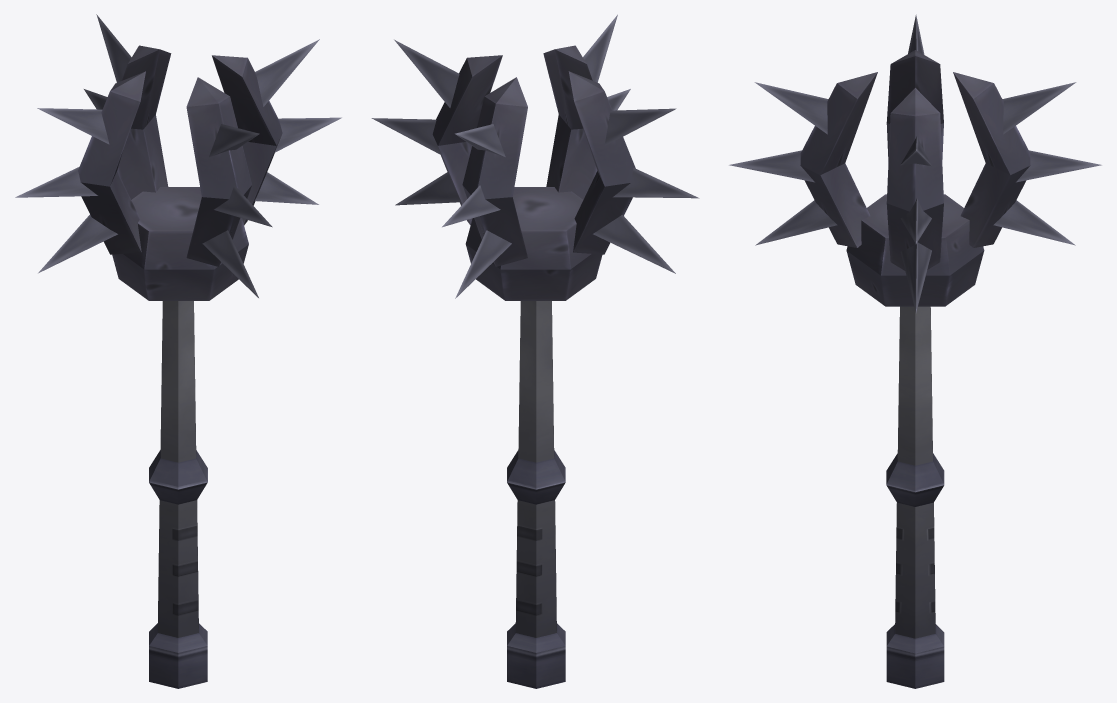
The model's file is mace_lvl_03.fbx.
The picture shows the model from 3 angles, left to right: view 1: azimuth 30°, elevation 25°; view 2: azimuth 150°, elevation 25°; view 3: azimuth 270°, elevation 25°; orthographic projection.
Visible parts, largest first — view 1: mace_lvl_03; view 2: mace_lvl_03; view 3: mace_lvl_03.
Boxes of the visible parts, <box> form: mace_lvl_03: <box>15,14,341,688</box>; mace_lvl_03: <box>371,14,699,688</box>; mace_lvl_03: <box>729,14,1101,688</box>.
Size of the model in its own units: 4.36 by 7.75 by 4.36.
